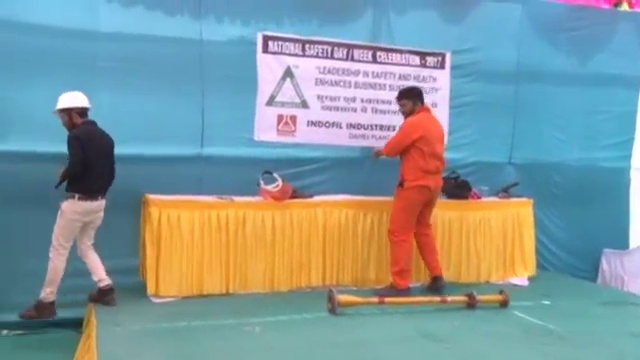helmet: (50, 88, 90, 115)
helmet_off: (396, 86, 427, 119)
helmet_on: (49, 88, 90, 133)
person: (23, 88, 120, 313), (383, 87, 446, 296)
